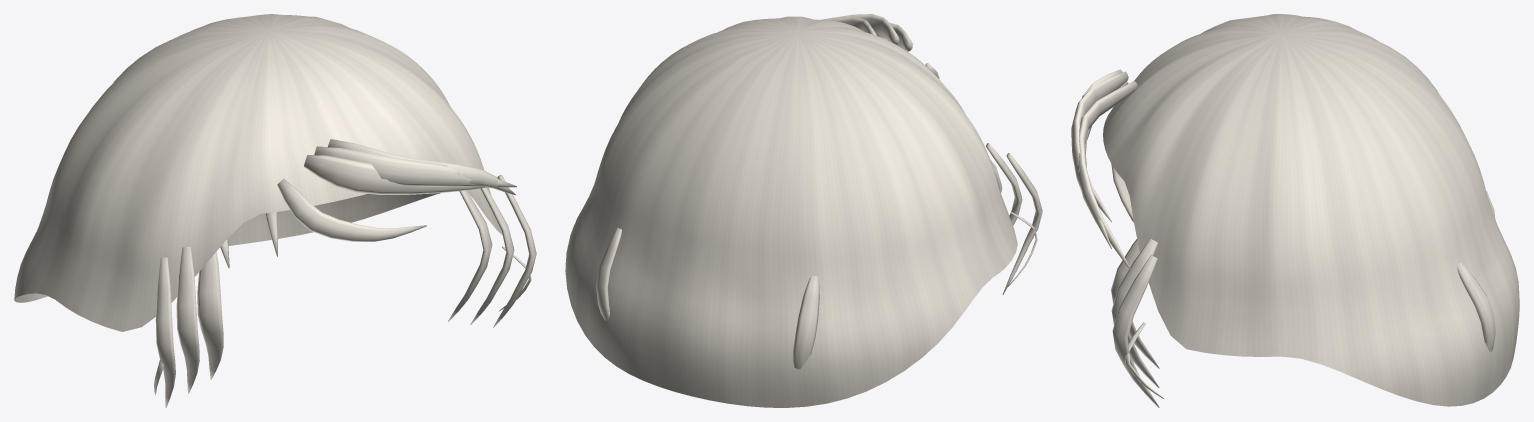
3 renders of one model, left to right at view 1: azimuth 30°, elevation 25°; view 2: azimuth 150°, elevation 25°; view 3: azimuth 270°, elevation 25°, orthographic. The views are drawn at different scales.
Parts seen in each view (by area): view 1: Portrait hair p1; view 2: Portrait hair p1; view 3: Portrait hair p1.
Part boxes in pixels (<box>): Portrait hair p1: <box>14,14,536,407</box>; Portrait hair p1: <box>565,14,1042,407</box>; Portrait hair p1: <box>1071,14,1519,407</box>.
Size of the model in its own units: 1.04 by 0.7354 by 0.9462.
Materials: 1 (1 with a texture image).
